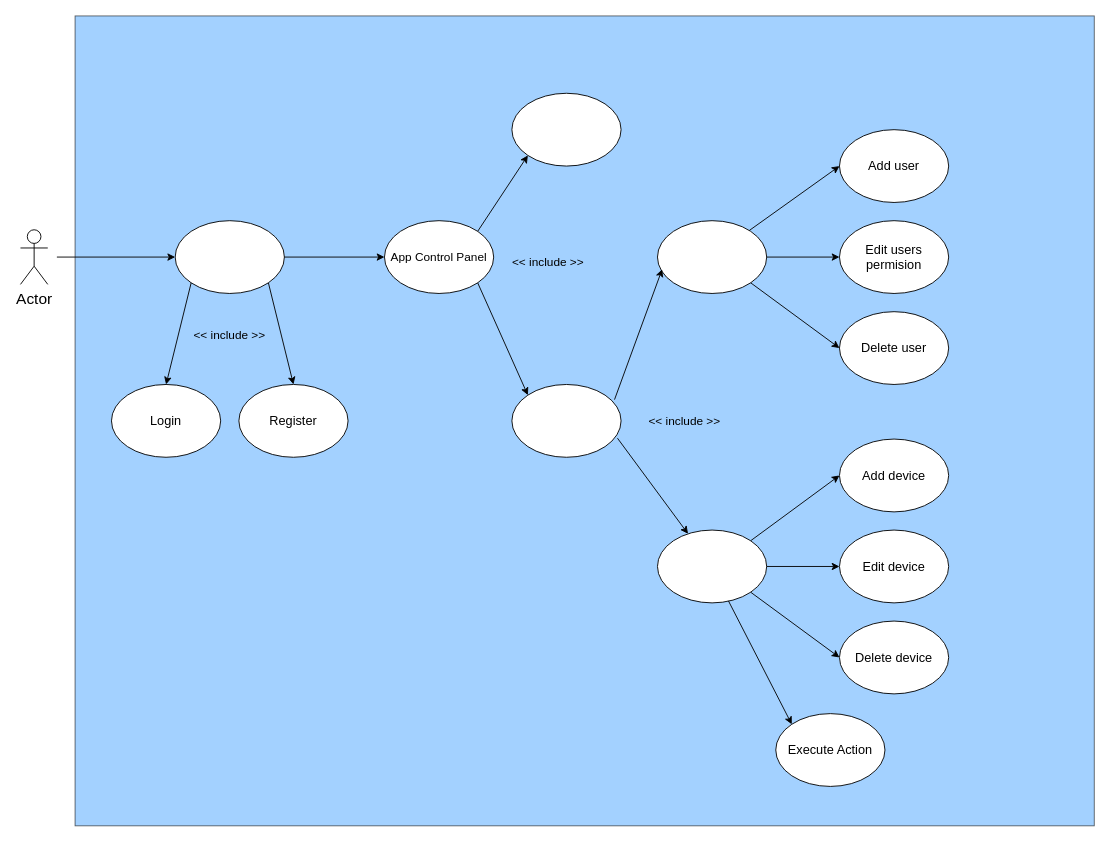
Image size: 1110x842. Some labels were removed from this diagram. The shapes that lost their labels are listed below. From the top down, each one's centre as x and y in pixels, then its label:
At (566,129): "Manage own account".
At (229,256): "Authenticate".
At (712,256): "Manage users".
At (566,420): "Manage Home".
At (712,566): "Manage Devices".
